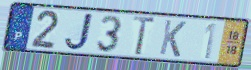1: (204, 22, 218, 60)
2: (30, 9, 61, 51)
3: (95, 15, 125, 54)
J: (62, 12, 95, 52)
K: (157, 18, 188, 59)
T: (131, 14, 158, 57)
